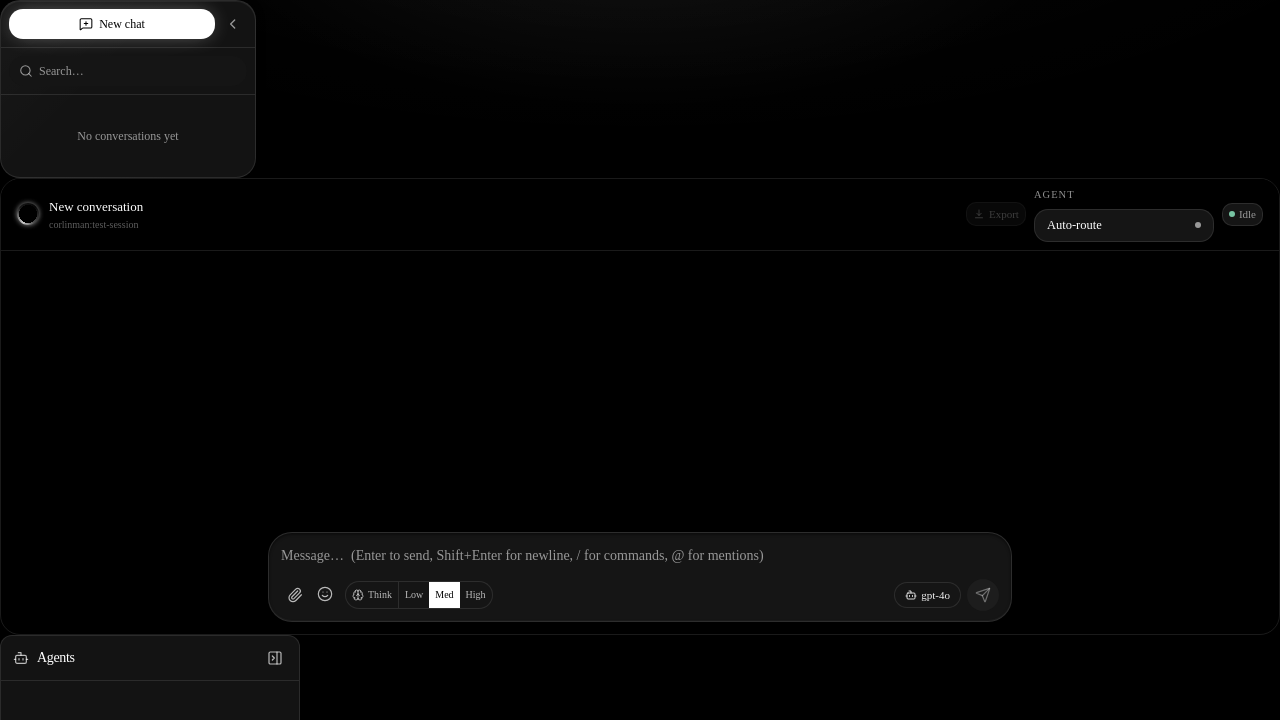
Test: ChatPage model picker wiring › opens the model picker when the composer model pill is clicked
Click the button with test id "composer-model" at (928, 595), box left=894, top=582, right=961, bottom=608
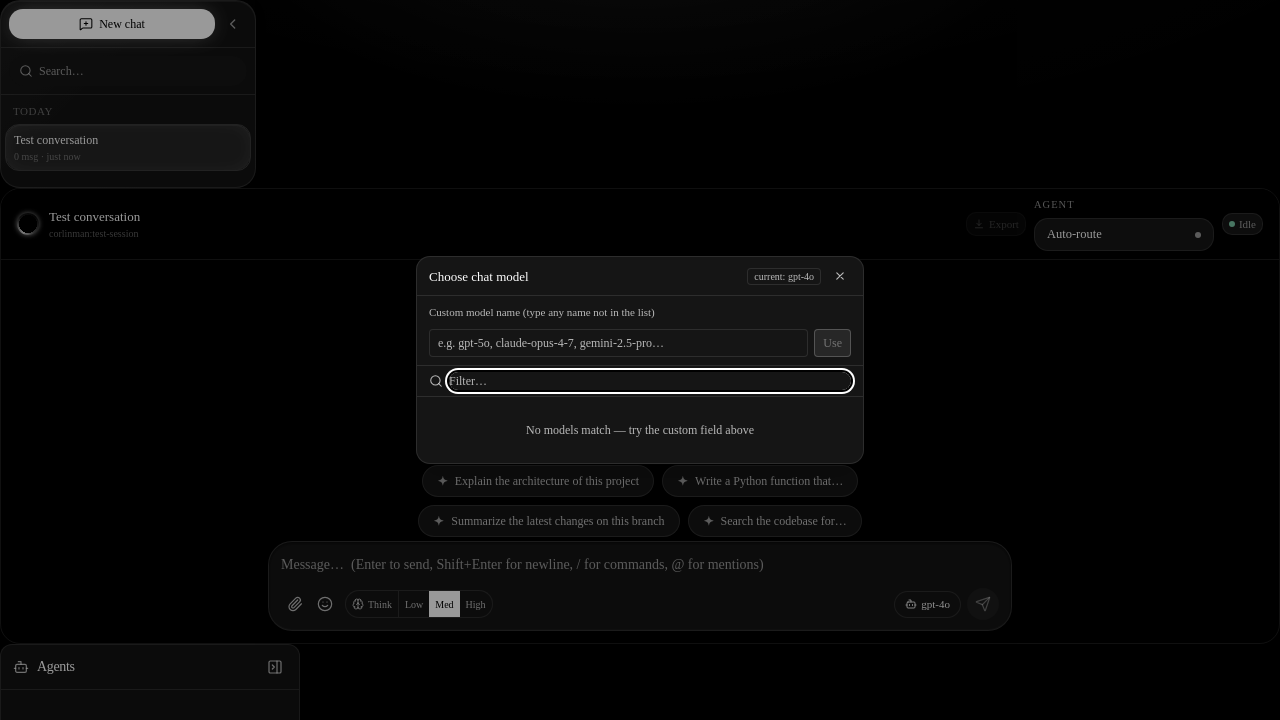
Now the dialog with test id "chat-model-picker" is shown
